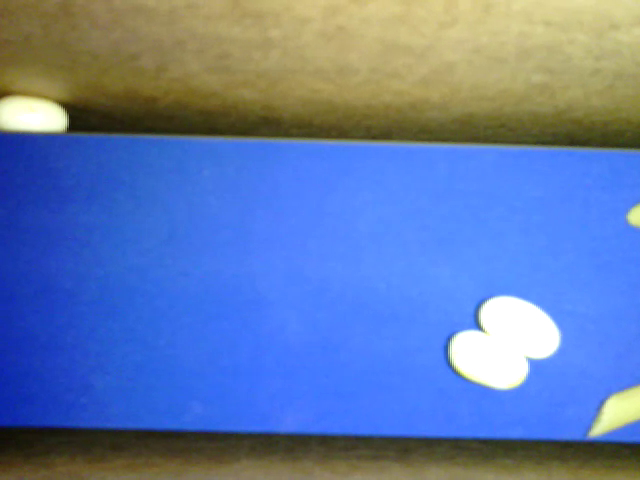penne: (586, 385, 639, 439)
